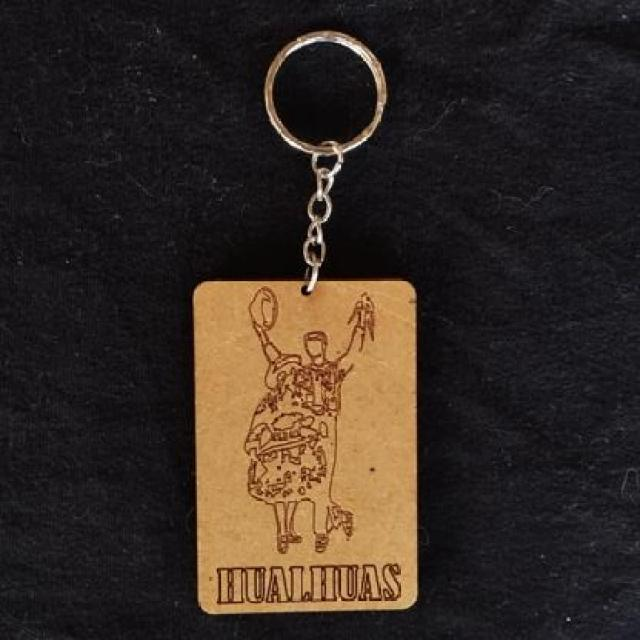Llavero: (241, 284, 373, 556)
